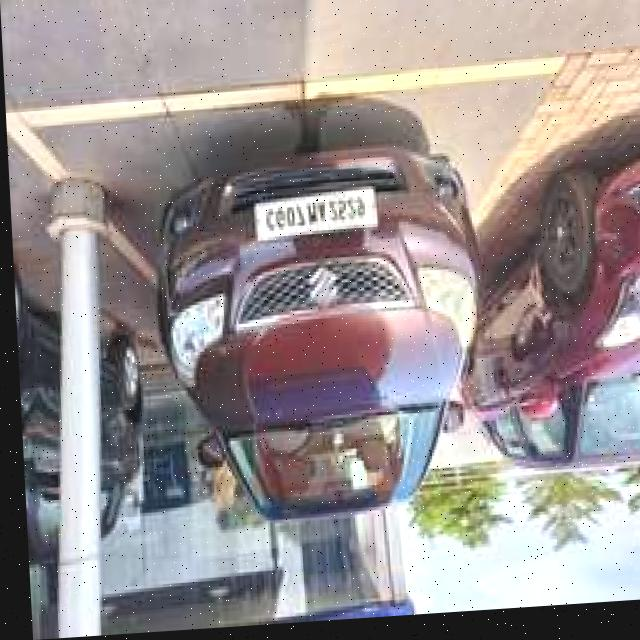plate: (253, 188, 376, 246)
